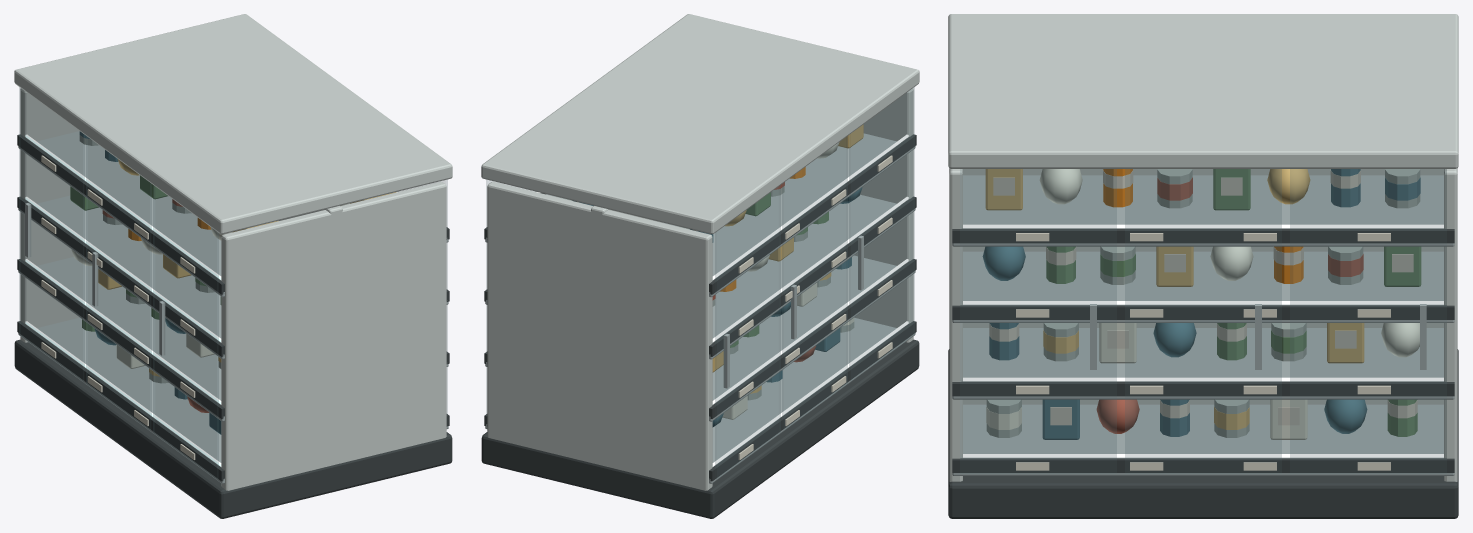
The model's file is freezer-wall.glb.
The picture shows the model from 3 angles, left to right: view 1: azimuth 30°, elevation 25°; view 2: azimuth 150°, elevation 25°; view 3: azimuth 270°, elevation 25°; orthographic projection. The views are drawn at different scales.
Parts seen in each view (by area): view 1: freezer-wall_fixture_Refrigerator enamel, freezer-wall_fixture_Smoked glass approximation, freezer-wall_fixture_Brushed stainless, freezer-wall_fixture_Powder-coated graphite, freezer-wall_fixture_Cabinet LED, freezer-wall_micro_Ivory shelf label, freezer-wall_detail_Dairy cartons, freezer-wall_detail_greenpack, freezer-wall_detail_cheese, freezer-wall_detail_can, freezer-wall_detail_Pack blue; view 2: freezer-wall_fixture_Refrigerator enamel, freezer-wall_fixture_Smoked glass approximation, freezer-wall_fixture_Brushed stainless, freezer-wall_fixture_Powder-coated graphite, freezer-wall_fixture_Cabinet LED, freezer-wall_micro_Ivory shelf label, freezer-wall_detail_cheese, freezer-wall_detail_Pack blue, freezer-wall_detail_Dairy cartons, freezer-wall_detail_can, freezer-wall_detail_greenpack; view 3: freezer-wall_fixture_Smoked glass approximation, freezer-wall_fixture_Refrigerator enamel, freezer-wall_fixture_Brushed stainless, freezer-wall_fixture_Powder-coated graphite, freezer-wall_fixture_Cabinet LED, freezer-wall_detail_Pack blue, freezer-wall_micro_paper, freezer-wall_detail_can, freezer-wall_detail_Dairy cartons, freezer-wall_micro_Ivory shelf label, freezer-wall_detail_cheese, freezer-wall_detail_greenpack (+7 smaller).
Boxes of the visible parts, left/top/right/bottom form: freezer-wall_fixture_Refrigerator enamel: left=14, top=14, right=452, bottom=490; freezer-wall_fixture_Smoked glass approximation: left=19, top=87, right=447, bottom=478; freezer-wall_fixture_Brushed stainless: left=18, top=131, right=448, bottom=483; freezer-wall_fixture_Powder-coated graphite: left=14, top=134, right=452, bottom=518; freezer-wall_fixture_Cabinet LED: left=25, top=134, right=397, bottom=466; freezer-wall_micro_Ivory shelf label: left=41, top=155, right=195, bottom=459; freezer-wall_detail_Dairy cartons: left=71, top=203, right=349, bottom=368; freezer-wall_detail_greenpack: left=70, top=175, right=221, bottom=331; freezer-wall_detail_cheese: left=98, top=159, right=396, bottom=289; freezer-wall_detail_can: left=79, top=135, right=221, bottom=383; freezer-wall_detail_Pack blue: left=94, top=150, right=221, bottom=434; freezer-wall_fixture_Refrigerator enamel: left=481, top=14, right=919, bottom=490; freezer-wall_fixture_Smoked glass approximation: left=486, top=87, right=914, bottom=478; freezer-wall_fixture_Brushed stainless: left=485, top=133, right=915, bottom=483; freezer-wall_fixture_Powder-coated graphite: left=481, top=134, right=919, bottom=518; freezer-wall_fixture_Cabinet LED: left=536, top=134, right=908, bottom=466; freezer-wall_micro_Ivory shelf label: left=738, top=155, right=892, bottom=459; freezer-wall_detail_cheese: left=712, top=124, right=863, bottom=372; freezer-wall_detail_Pack blue: left=572, top=187, right=862, bottom=427; freezer-wall_detail_Dairy cartons: left=722, top=142, right=839, bottom=419; freezer-wall_detail_can: left=561, top=186, right=854, bottom=400; freezer-wall_detail_greenpack: left=743, top=192, right=828, bottom=337; freezer-wall_fixture_Smoked glass approximation: left=960, top=169, right=1446, bottom=473; freezer-wall_fixture_Refrigerator enamel: left=948, top=14, right=1458, bottom=481; freezer-wall_fixture_Brushed stainless: left=952, top=175, right=1454, bottom=475; freezer-wall_fixture_Powder-coated graphite: left=948, top=228, right=1458, bottom=518; freezer-wall_fixture_Cabinet LED: left=963, top=224, right=1443, bottom=457; freezer-wall_detail_Pack blue: left=982, top=169, right=1367, bottom=439; freezer-wall_micro_paper: left=989, top=170, right=1417, bottom=425; freezer-wall_detail_can: left=986, top=169, right=1420, bottom=437; freezer-wall_detail_Dairy cartons: left=1039, top=169, right=1419, bottom=439; freezer-wall_micro_Ivory shelf label: left=1016, top=233, right=1390, bottom=470; freezer-wall_detail_cheese: left=985, top=169, right=1364, bottom=363; freezer-wall_detail_greenpack: left=1046, top=169, right=1421, bottom=436.
Size of the model in its own units: 1.7 by 2.07 by 2.6.
